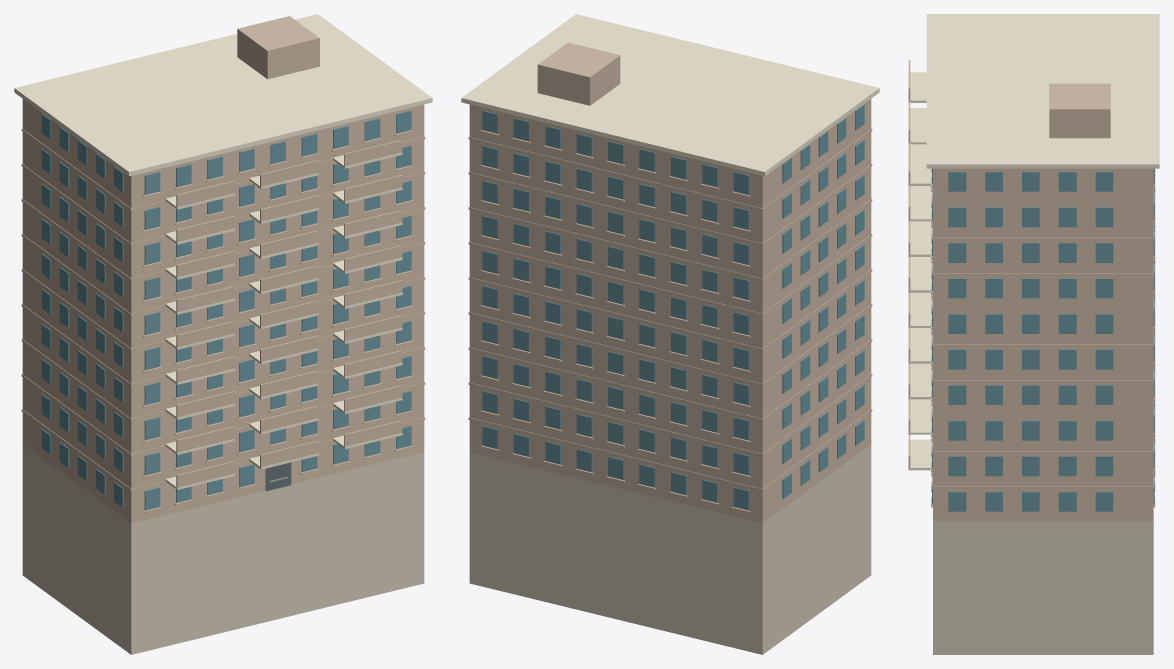
Rendered from apartment-2.glb.
The picture shows the model from 3 angles, left to right: view 1: azimuth 30°, elevation 25°; view 2: azimuth 150°, elevation 25°; view 3: azimuth 270°, elevation 25°; orthographic projection.
Bounding box in the file's own units: 29 × 47 × 20.5.
